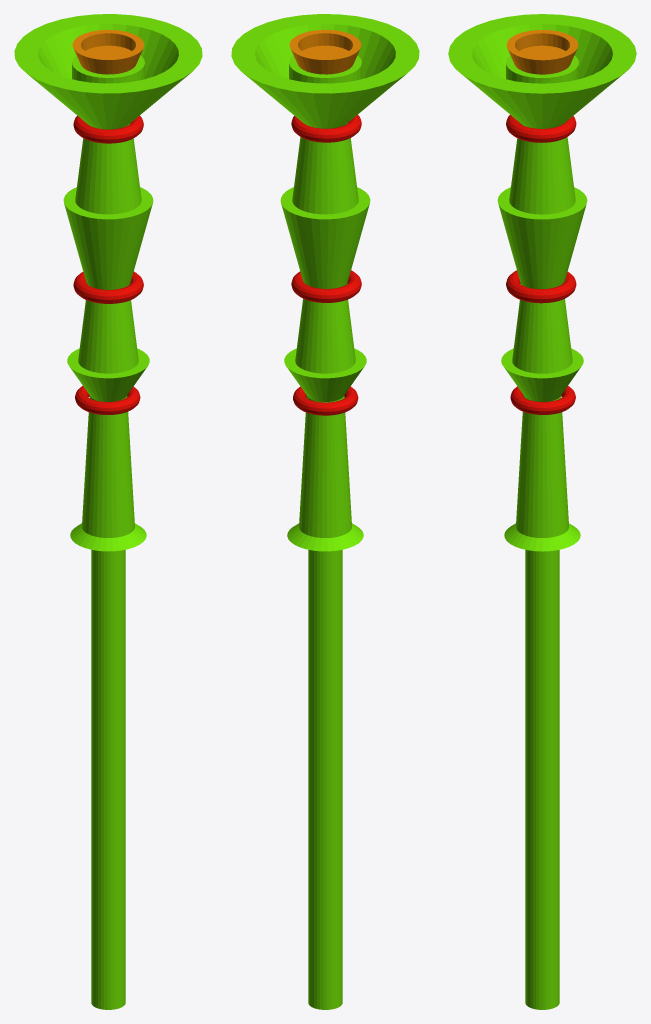
File: Tourch stand.fbx
The picture shows the model from 3 angles, left to right: view 1: azimuth 30°, elevation 25°; view 2: azimuth 150°, elevation 25°; view 3: azimuth 270°, elevation 25°; orthographic projection.
Parts seen in each view (by area): view 1: Cylinder.001, Torus.148, Torus.149, Torus.153; view 2: Cylinder.001, Torus.148, Torus.149, Torus.153; view 3: Cylinder.001, Torus.148, Torus.149, Torus.153.
Boxes of the visible parts, x1=… form: Cylinder.001: x1=14, y1=14, x2=202, y2=1009; Torus.148: x1=73, y1=271, x2=143, y2=303; Torus.149: x1=73, y1=115, x2=143, y2=143; Torus.153: x1=75, y1=386, x2=140, y2=414; Cylinder.001: x1=231, y1=14, x2=419, y2=1009; Torus.148: x1=291, y1=270, x2=361, y2=302; Torus.149: x1=291, y1=114, x2=361, y2=142; Torus.153: x1=293, y1=386, x2=358, y2=415; Cylinder.001: x1=448, y1=14, x2=636, y2=1009; Torus.148: x1=506, y1=270, x2=576, y2=303; Torus.149: x1=506, y1=115, x2=576, y2=142; Torus.153: x1=510, y1=386, x2=575, y2=414.
Size of the model in its own units: 70.78 by 397 by 70.78.
